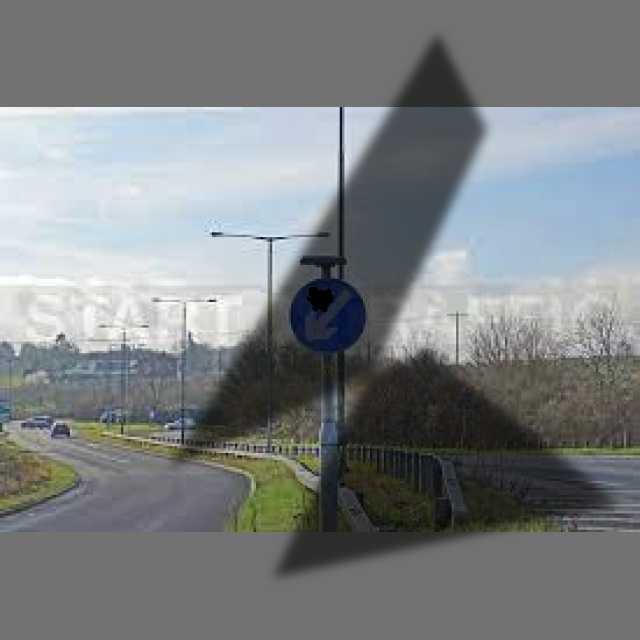Compulsory_Keep_Left: (291, 274, 366, 357)
